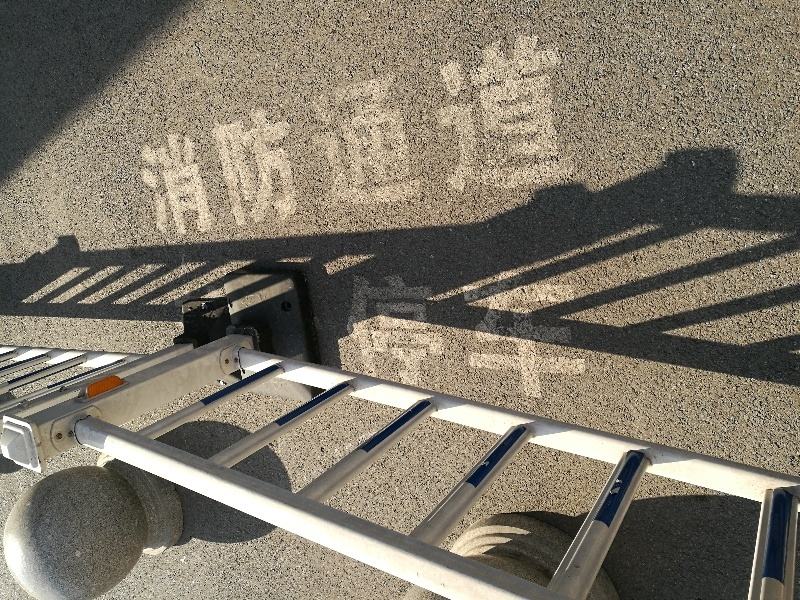text: (129, 24, 144, 243), (145, 24, 160, 243), (161, 24, 176, 243), (177, 24, 192, 243), (193, 24, 208, 243), (209, 24, 224, 243), (225, 24, 240, 243), (241, 24, 256, 243), (257, 24, 272, 243), (273, 24, 288, 243), (289, 24, 304, 243), (305, 24, 320, 243), (321, 24, 336, 243), (337, 24, 352, 243), (353, 24, 368, 243), (369, 24, 384, 243), (385, 24, 400, 243), (401, 24, 416, 243), (417, 24, 432, 243), (433, 24, 448, 243), (449, 24, 464, 243), (465, 24, 480, 243), (481, 24, 496, 243), (497, 24, 512, 243), (513, 24, 528, 243), (529, 24, 544, 243), (545, 24, 560, 243), (561, 24, 576, 243), (353, 263, 368, 406), (369, 263, 384, 406), (385, 263, 400, 406), (401, 263, 416, 406), (417, 263, 432, 406), (433, 263, 448, 406), (449, 263, 464, 406), (465, 263, 480, 406), (481, 263, 496, 406), (497, 263, 512, 406), (513, 263, 528, 406), (529, 263, 544, 406), (545, 263, 560, 406), (561, 263, 576, 406), (338, 263, 352, 406), (577, 24, 586, 243), (577, 263, 589, 406), (123, 24, 128, 243)
